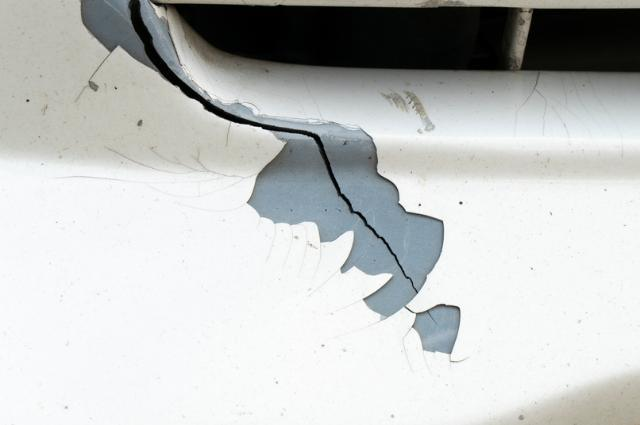Bumper: (31, 5, 640, 407)
